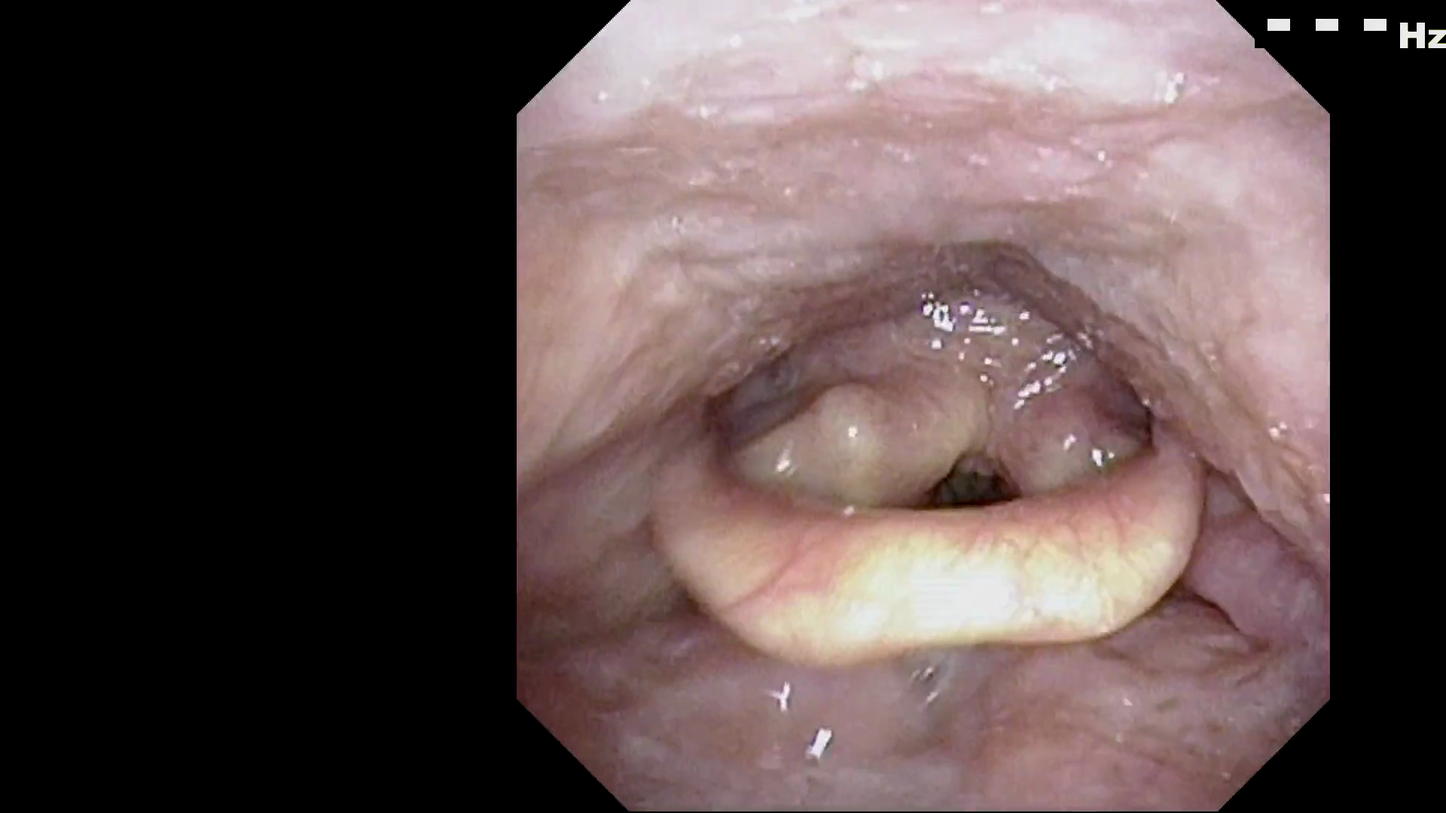epiglottis: (665, 424, 1218, 669)
trachea: (932, 447, 1011, 532)
